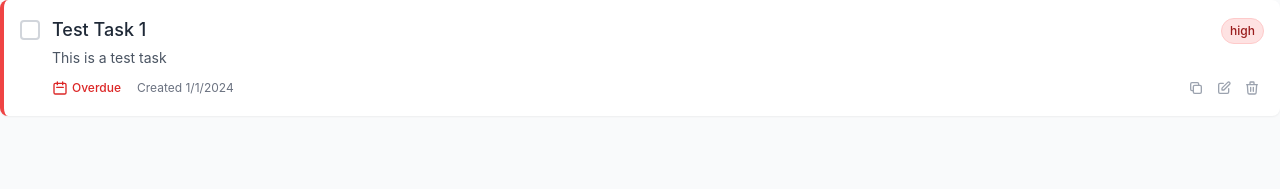
TaskItem Component › Priority Change Functionality › closes priority menu after selection
Click the button "high".
click(1243, 30)  # box [1221,18,1264,44]
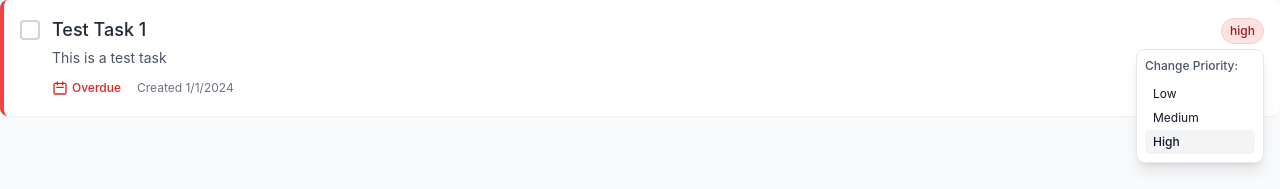
Click the button "Low".
click(1200, 94)  # box [1145,82,1255,106]
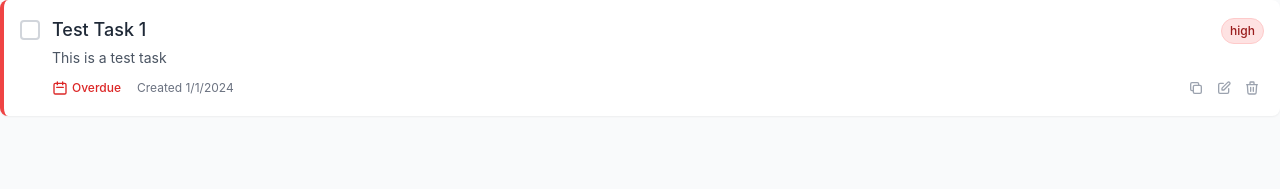
Result: the text "Change Priority:" is gone
